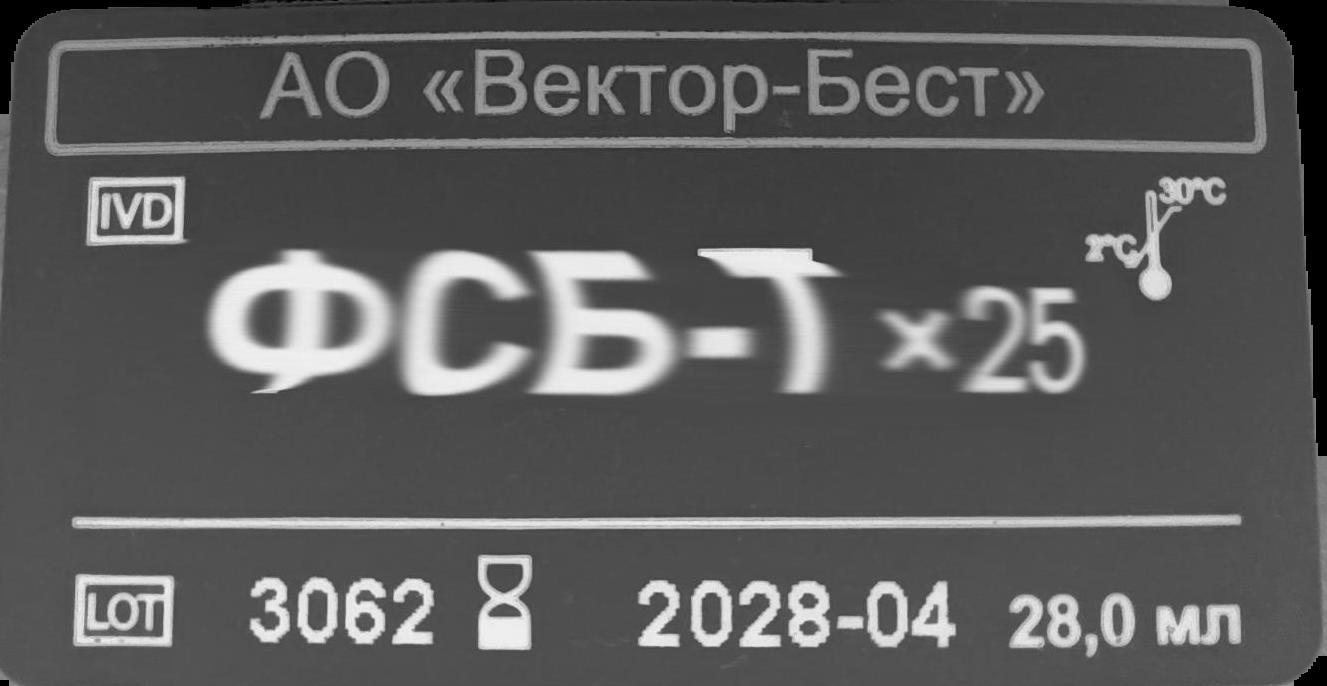something: (1086, 174, 1234, 300), (65, 569, 184, 651), (81, 173, 196, 244), (475, 552, 542, 653)
text: (196, 237, 1094, 420), (254, 39, 1049, 141), (631, 574, 963, 654), (1008, 588, 1244, 661), (243, 576, 444, 653)
